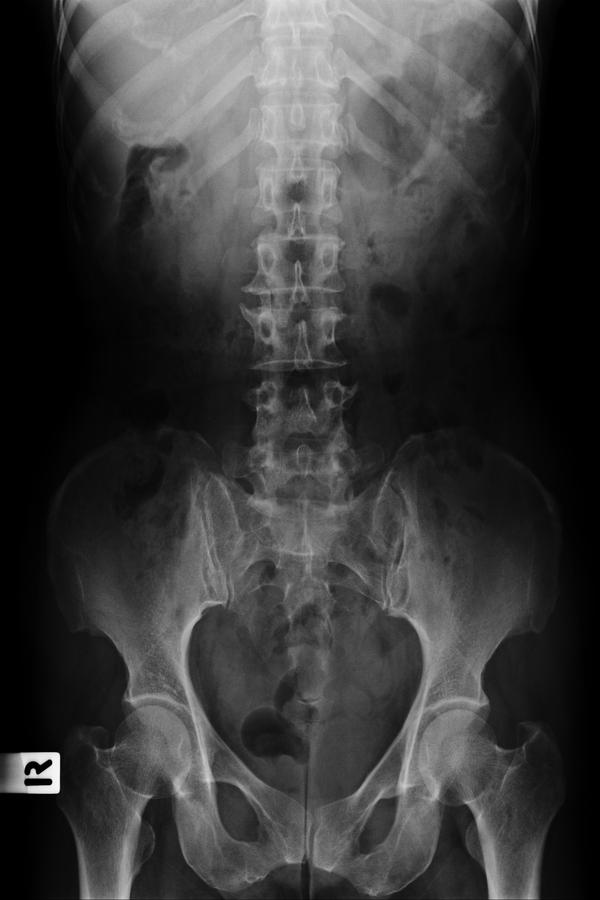not lumbar scoliosis: (236, 211, 356, 511)
